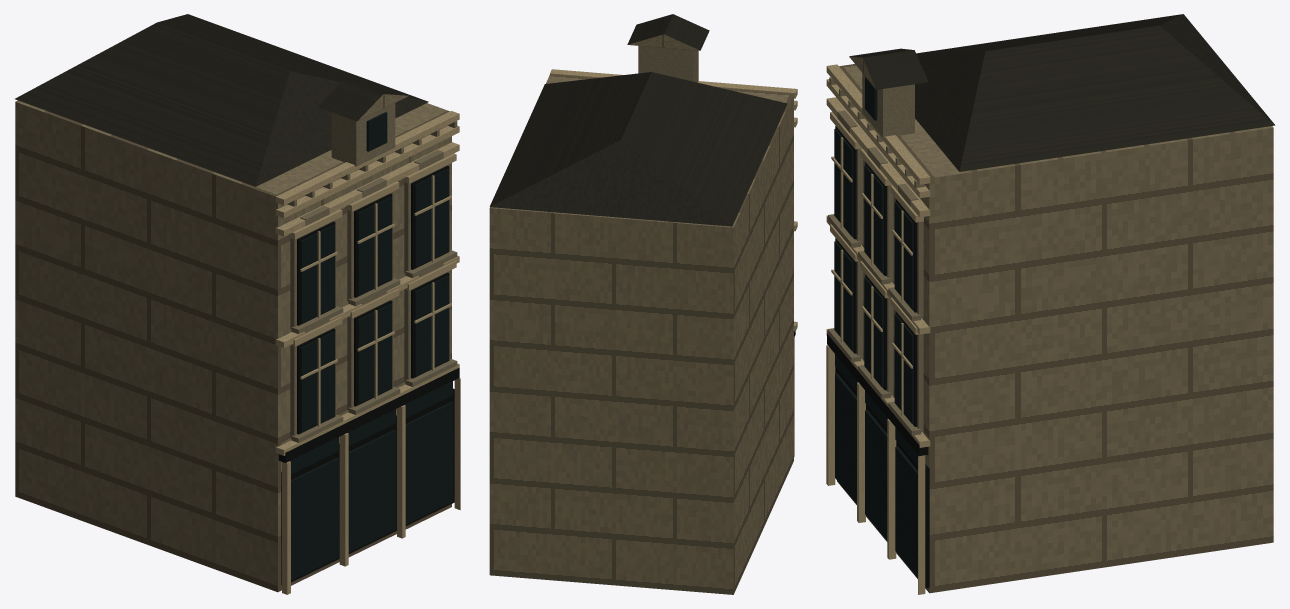
The picture shows the model from 3 angles, left to right: view 1: azimuth 30°, elevation 25°; view 2: azimuth 150°, elevation 25°; view 3: azimuth 270°, elevation 25°; orthographic projection. The views are drawn at different scales.
Parts seen in each view (by area): view 1: hoogstraat-357-0, hoogstraat-357-1, hoogstraat-357-3, hoogstraat-357-4, hoogstraat-357-5, hoogstraat-357-2; view 2: hoogstraat-357-0, hoogstraat-357-1, hoogstraat-357-5, hoogstraat-357-4; view 3: hoogstraat-357-0, hoogstraat-357-1, hoogstraat-357-3, hoogstraat-357-4, hoogstraat-357-5, hoogstraat-357-2.
Part boxes in pixels (x1,y1,x2,y2): hoogstraat-357-0: [15, 94, 451, 592]; hoogstraat-357-1: [15, 14, 428, 186]; hoogstraat-357-3: [290, 112, 453, 580]; hoogstraat-357-4: [275, 111, 460, 594]; hoogstraat-357-5: [287, 103, 457, 442]; hoogstraat-357-2: [278, 165, 459, 585]; hoogstraat-357-0: [489, 34, 793, 594]; hoogstraat-357-1: [489, 14, 787, 226]; hoogstraat-357-5: [638, 46, 698, 82]; hoogstraat-357-4: [550, 69, 797, 456]; hoogstraat-357-0: [837, 56, 1273, 593]; hoogstraat-357-1: [850, 14, 1275, 171]; hoogstraat-357-3: [834, 77, 921, 577]; hoogstraat-357-4: [826, 64, 930, 594]; hoogstraat-357-5: [828, 73, 924, 435]; hoogstraat-357-2: [827, 126, 929, 587].
Size of the model in its own units: 9.17 by 12.6 by 10.6.
Materials: 6 (6 with a texture image).
